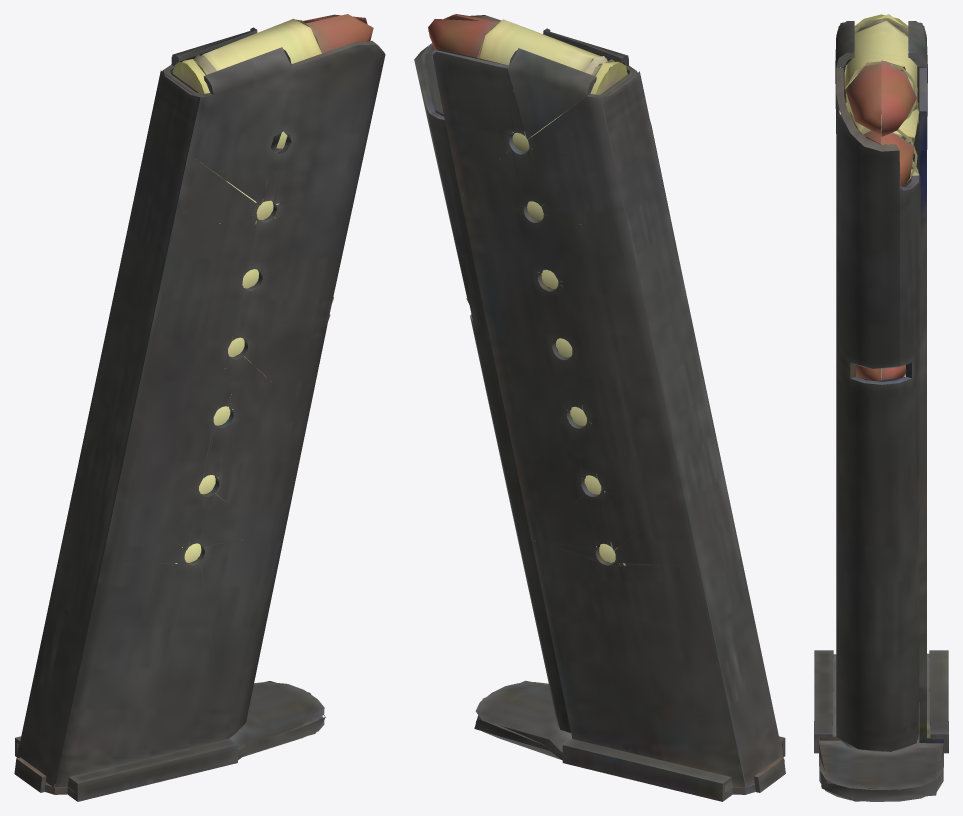
Rendered from pente_pistola.glb.
The picture shows the model from 3 angles, left to right: view 1: azimuth 30°, elevation 25°; view 2: azimuth 150°, elevation 25°; view 3: azimuth 270°, elevation 25°; orthographic projection. The views are drawn at different scales.
Parts seen in each view (by area): view 1: Malha; view 2: Malha; view 3: Malha.
Part boxes in pixels (box(x1,y1,x2,y2)): Malha: box(14, 14, 385, 801); Malha: box(414, 14, 785, 801); Malha: box(814, 14, 948, 801).
Size of the model in its own units: 0.0638 by 0.1202 by 0.0197.
Materials: 1 (1 with a texture image).
